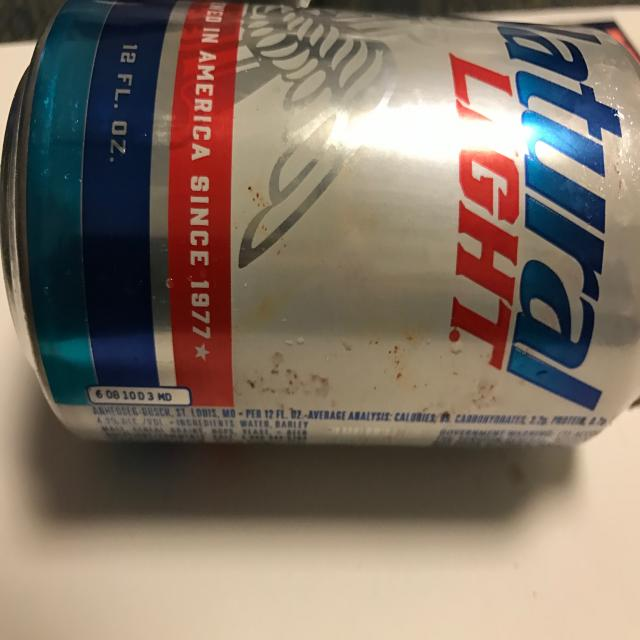Metal: (2, 4, 640, 469)
